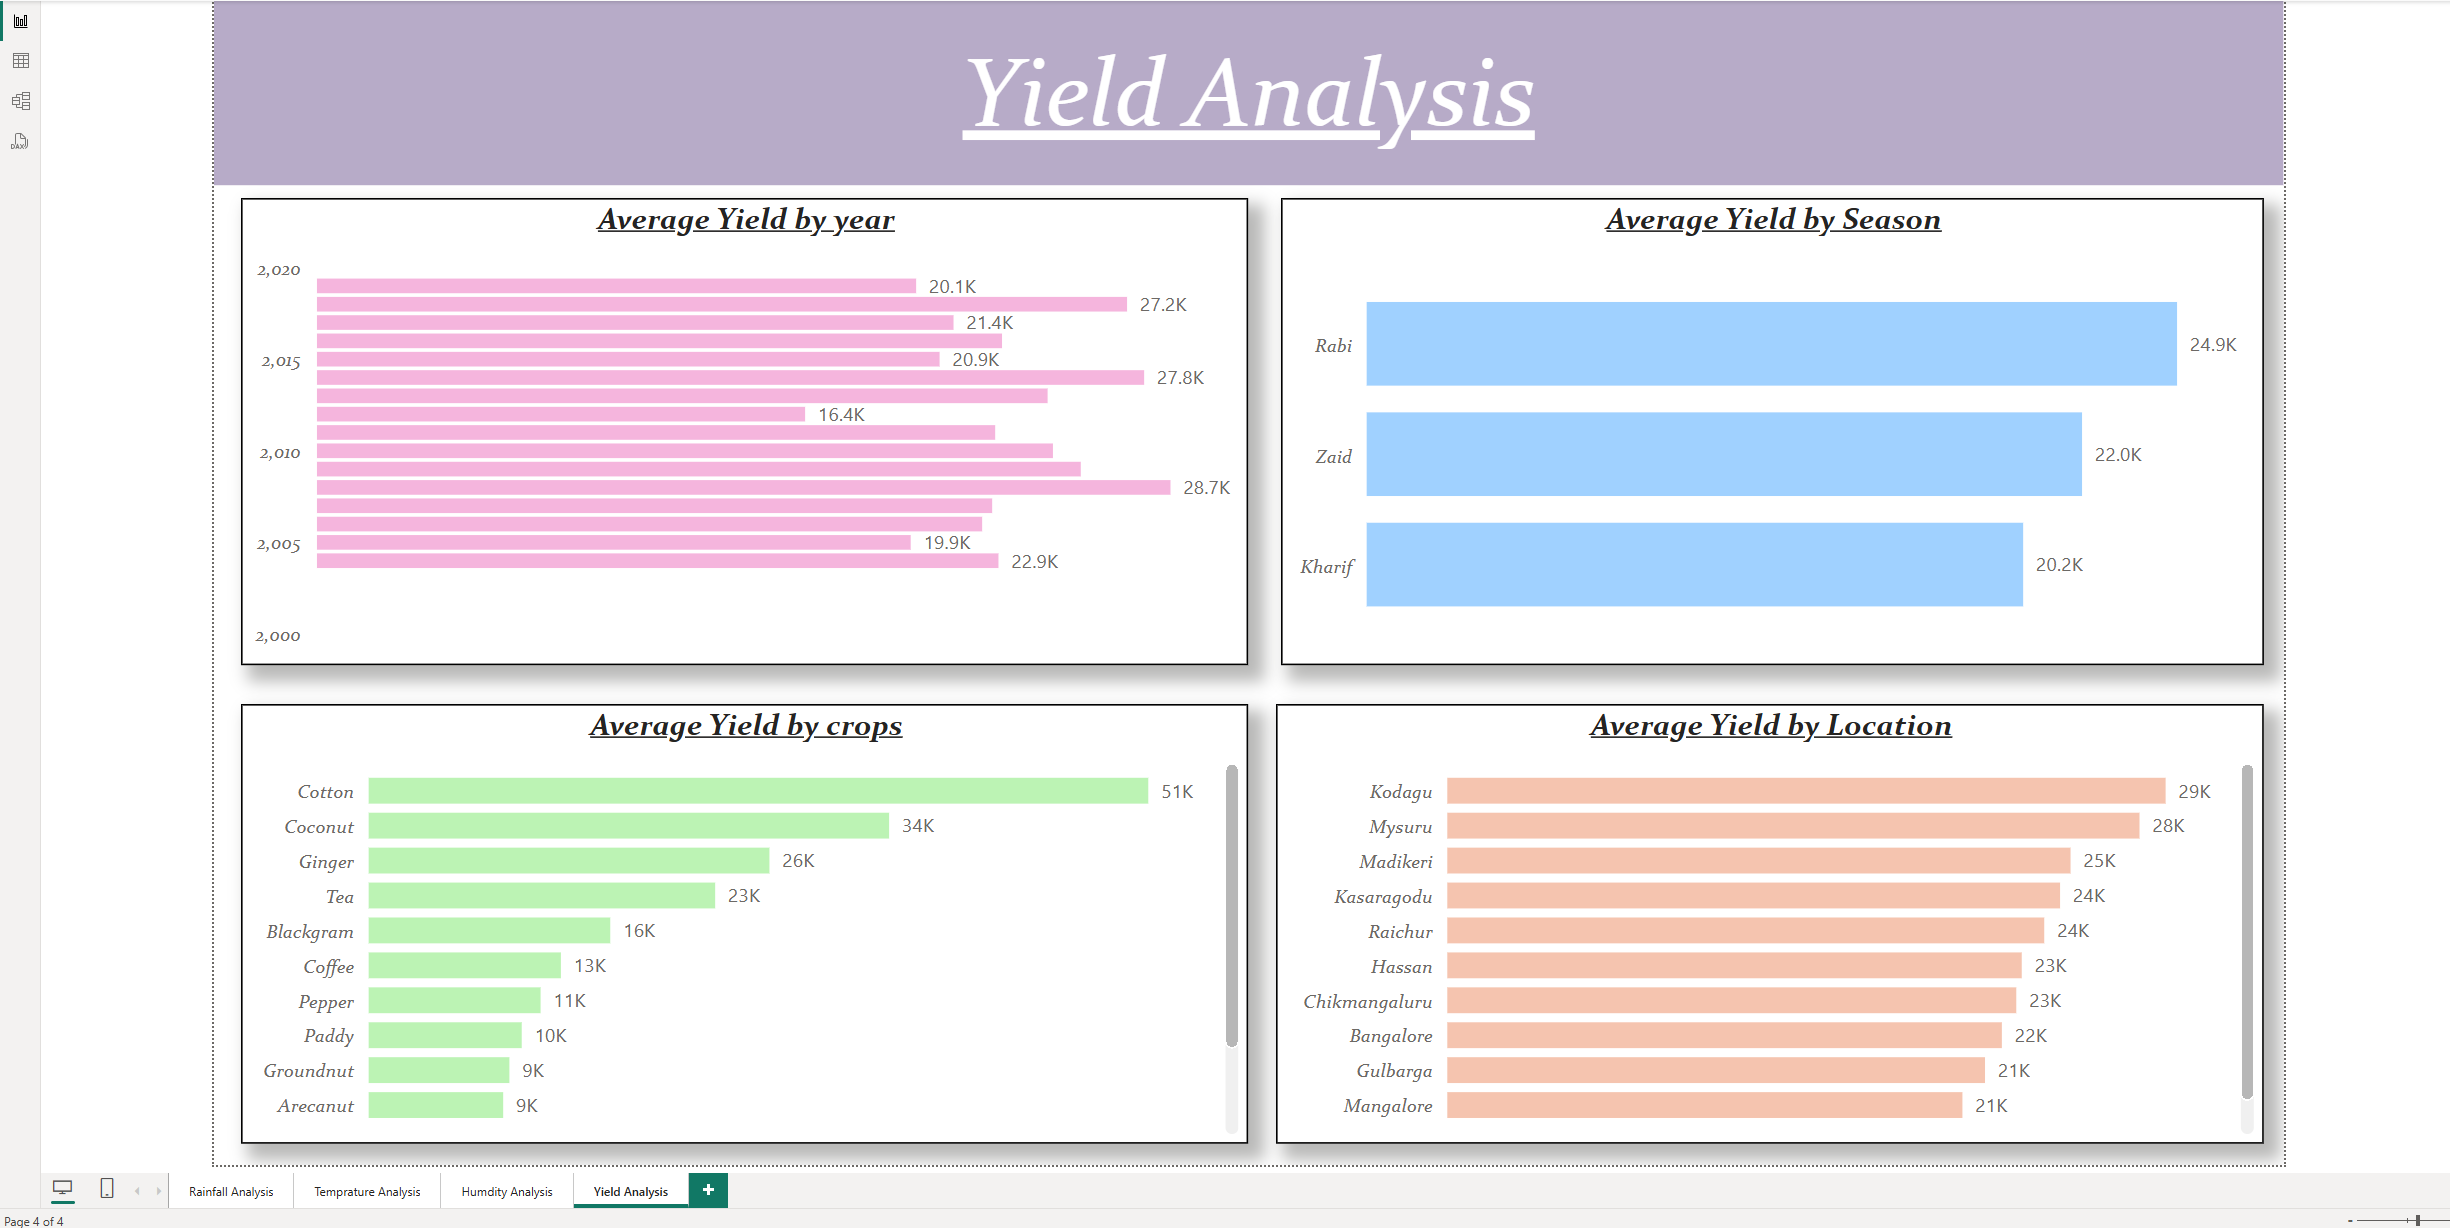

The page's visual inventory and layout, read from the dashboard file:
{"tool":"powerbi","page":{"name":"Yield Analysis","canvas":[1280,720],"ordinal":3},"visuals":[{"type":"shape","box":[0,0,1280,113.9],"z":0},{"type":"barChart","title":"Average Yield by year","fields":{"Category":["AGRICULTURE.YEAR"],"Y":["Sum(AGRICULTURE.YEILDS)"]},"box":[16.7,121.6,623.3,288.8],"z":1000},{"type":"barChart","title":"Average Yield by Season","fields":{"Category":["AGRICULTURE.SEASON"],"Y":["Sum(AGRICULTURE.YEILDS)"]},"box":[659.8,121.6,608.1,288.8],"z":2000},{"type":"barChart","title":"Average Yield by crops","fields":{"Category":["AGRICULTURE.CROPS"],"Y":["Sum(AGRICULTURE.YEILDS)"]},"box":[16.7,434.8,623.3,272.1],"z":3000},{"type":"barChart","title":"Average Yield by Location","fields":{"Category":["AGRICULTURE.LOCATION"],"Y":["Sum(AGRICULTURE.YEILDS)"]},"box":[656.7,434.8,611.1,272.1],"z":4000}]}

Visuals, with their boxes on the page's 1280x720 design canvas (x1, y1, x2, y2). These are canvas units, not pixel positions in the 2450x1228 screenshot, which may show the page scaled, cropped or inside an application window:
shape: (0, 0, 1280, 114)
"Average Yield by year" barChart: (17, 122, 640, 410)
"Average Yield by Season" barChart: (660, 122, 1268, 410)
"Average Yield by crops" barChart: (17, 435, 640, 707)
"Average Yield by Location" barChart: (657, 435, 1268, 707)
